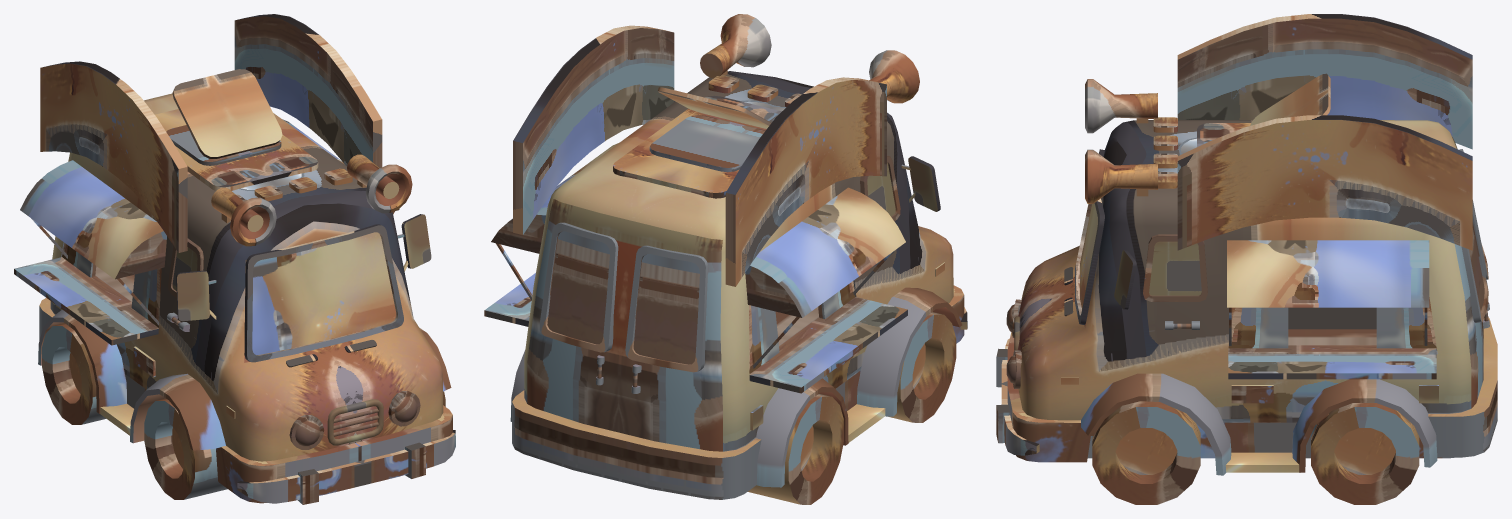
Rendered from food truck_6.fbx.
The picture shows the model from 3 angles, left to right: view 1: azimuth 30°, elevation 25°; view 2: azimuth 150°, elevation 25°; view 3: azimuth 270°, elevation 25°; orthographic projection. The views are drawn at different scales.
Parts seen in each view (by area): view 1: Cube.232, Cube.178, Cube.187, Plane.018, Cube.195, Cube.234, Cube.191, Cylinder.058, Cylinder.060, Cube.162, Cylinder.059, Circle.014 (+14 smaller); view 2: Cube.232, Cube.178, Cube.199, Plane.018, Cube.234, Cube.191, Cylinder.059, Circle.014, Cylinder.060, Cylinder.058, Cube.194, Cube.196 (+8 smaller); view 3: Cube.178, Cube.232, Plane.018, Cylinder.058, Cylinder.059, Cube.234, Cube.191, Circle.014, Cylinder.060, Cube.193, Circle.015, Cube.197 (+12 smaller).
Part boxes in pixels (box(x1,y1,x2,y2)): Cube.232: box(50, 93, 443, 461); Cube.178: box(40, 14, 382, 252); Cube.187: box(252, 232, 396, 354); Plane.018: box(20, 119, 399, 279); Cube.195: box(172, 69, 282, 158); Cube.234: box(39, 298, 452, 503); Cube.191: box(14, 257, 158, 345); Cylinder.058: box(144, 391, 445, 499); Cylinder.060: box(211, 154, 412, 246); Cube.162: box(237, 430, 455, 503); Cylinder.059: box(42, 323, 106, 424); Circle.014: box(130, 328, 451, 450); Cube.232: box(524, 71, 953, 451); Cube.178: box(513, 25, 886, 286); Cube.199: box(539, 222, 708, 372); Plane.018: box(491, 143, 905, 317); Cube.234: box(512, 285, 964, 499); Cube.191: box(484, 273, 907, 393); Cylinder.059: box(748, 393, 843, 504); Circle.014: box(857, 287, 962, 416); Cylinder.060: box(700, 14, 919, 103); Cylinder.058: box(888, 312, 956, 422); Cube.194: box(613, 95, 781, 198); Cube.196: box(649, 115, 765, 172); Cube.178: box(1177, 14, 1472, 250); Cube.232: box(1017, 119, 1483, 458); Plane.018: box(1227, 240, 1429, 307); Cylinder.058: box(1092, 401, 1200, 504); Cylinder.059: box(1311, 403, 1419, 504); Cube.234: box(1007, 317, 1497, 462); Cube.191: box(1228, 345, 1436, 379); Circle.014: box(1081, 373, 1231, 475); Cylinder.060: box(1085, 79, 1157, 203); Cube.193: box(1228, 297, 1436, 350); Circle.015: box(1292, 379, 1437, 472); Cube.197: box(1143, 234, 1207, 301).
Bounding box in the file's own units: 2.59 × 2.98 × 3.63.
